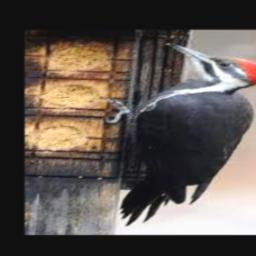Woodpecker: (103, 43, 256, 226)
